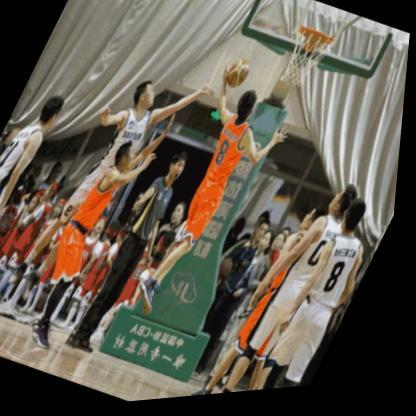basketball: (223, 59, 255, 95)
rim: (273, 27, 337, 100)
